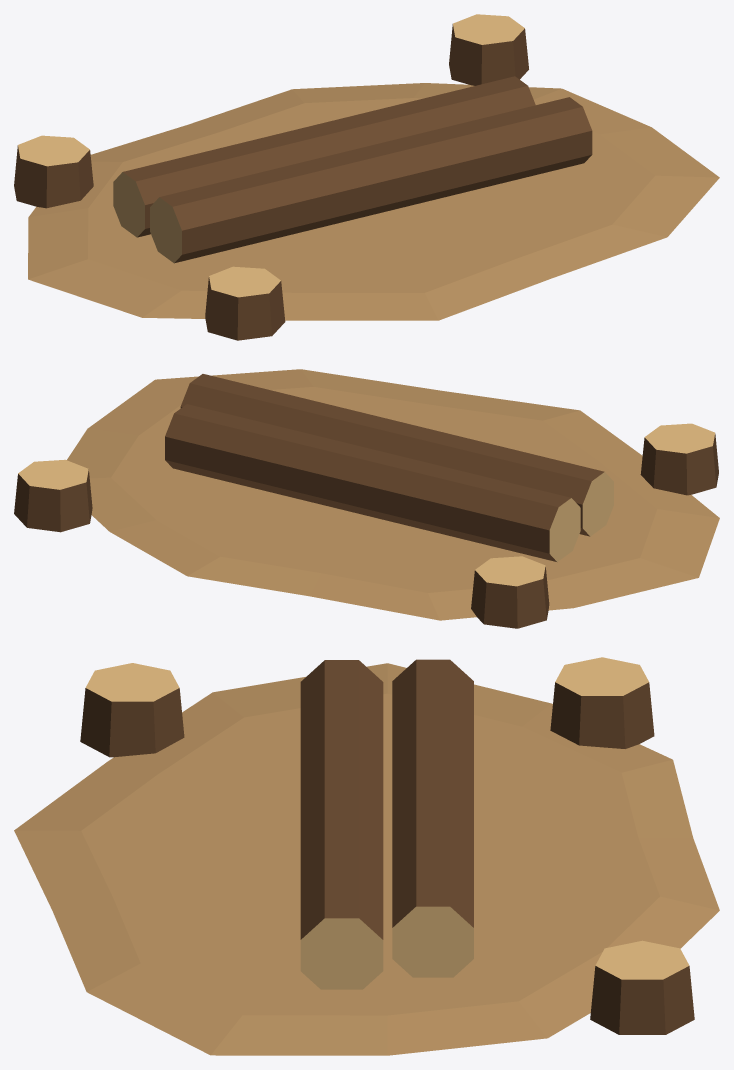
File: timber_stack_depleted.glb
The picture shows the model from 3 angles, top to bottom: view 1: azimuth 30°, elevation 25°; view 2: azimuth 150°, elevation 25°; view 3: azimuth 270°, elevation 25°; orthographic projection. The views are drawn at different scales.
Visible parts, largest first — view 1: timber_stack_depleted; view 2: timber_stack_depleted; view 3: timber_stack_depleted.
Part boxes in pixels (bbox=[...]): timber_stack_depleted: bbox=[14, 14, 719, 340]; timber_stack_depleted: bbox=[14, 369, 719, 628]; timber_stack_depleted: bbox=[14, 657, 719, 1055].
Bounding box in the file's own units: 3.46 × 0.324 × 2.63.
